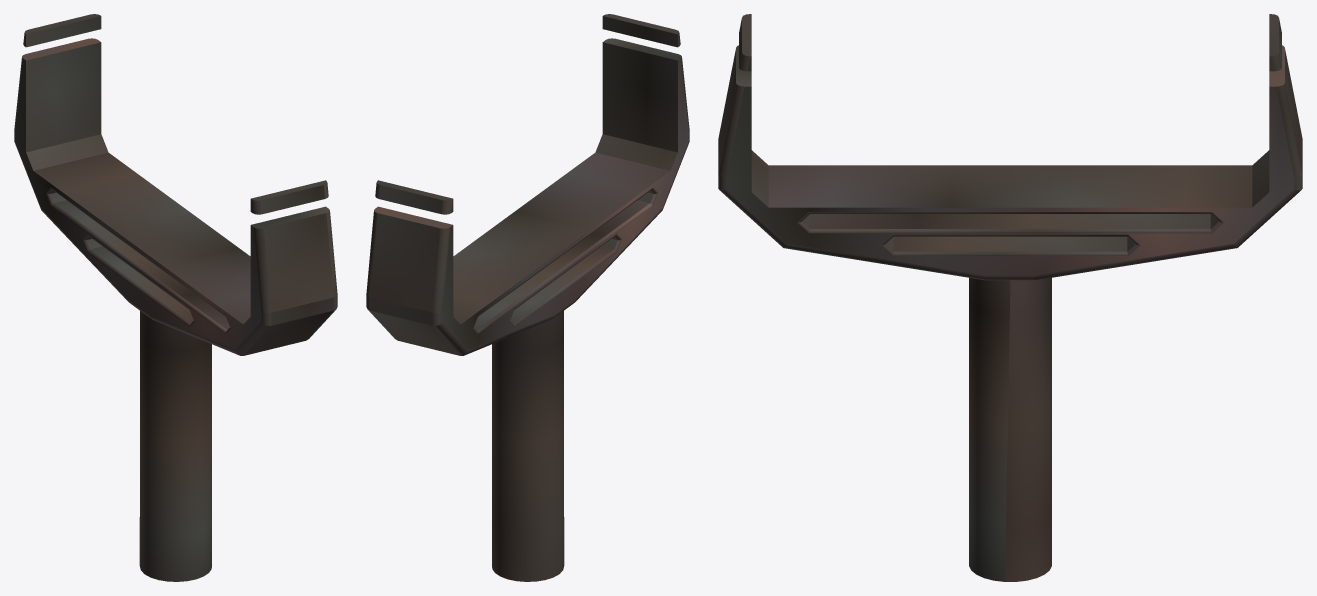
The model's file is Greifer.obj.
3 views of the same model, side by side, from view 1: azimuth 30°, elevation 25°; view 2: azimuth 150°, elevation 25°; view 3: azimuth 270°, elevation 25° (orthographic). The views are drawn at different scales.
Parts seen in each view (by area): view 1: Solid1; view 2: Solid1; view 3: Solid1.
Part boxes in pixels (bbox=[...]): Solid1: bbox=[14, 14, 337, 581]; Solid1: bbox=[366, 14, 689, 581]; Solid1: bbox=[718, 14, 1302, 581].
Bounding box in the file's own units: 0.6 × 3.5 × 3.5.
1 material, 1 textured.
